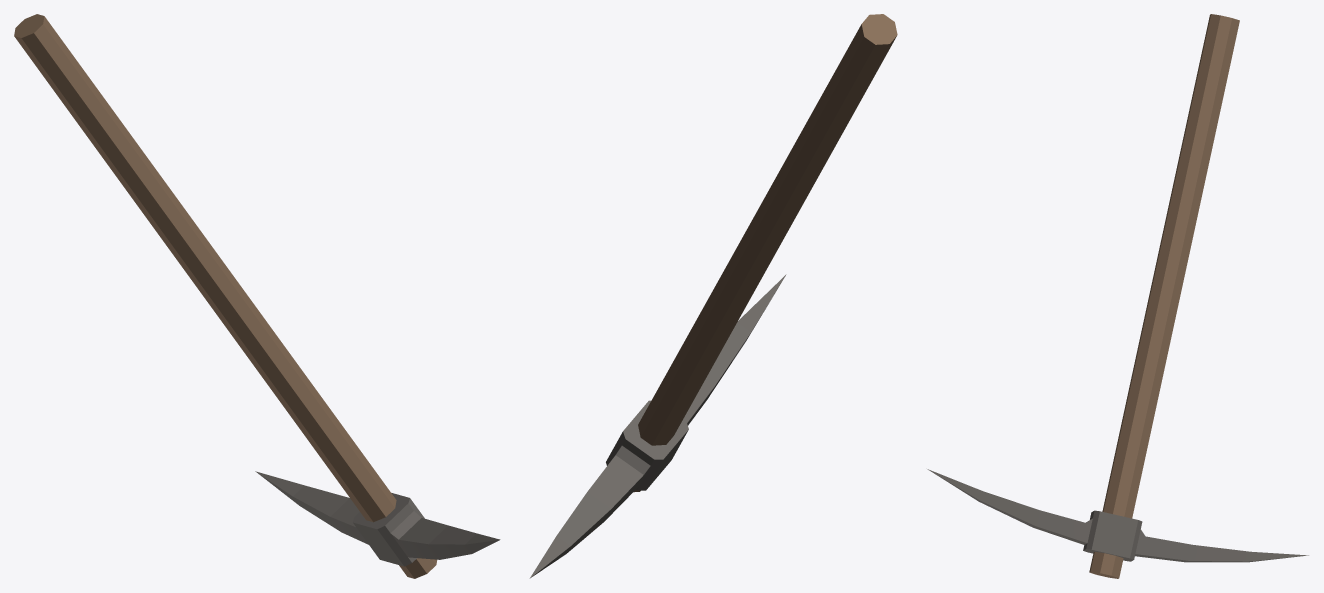
The model's file is Cave_Prop_Pick_Large.obj.
3 views of the same model, side by side, from view 1: azimuth 30°, elevation 25°; view 2: azimuth 150°, elevation 25°; view 3: azimuth 270°, elevation 25° (orthographic). The views are drawn at different scales.
Visible parts, largest first — view 1: object1, object2; view 2: object1, object2; view 3: object1, object2.
Part boxes in pixels (left/top/right/bottom): object1: left=14, top=14, right=437, bottom=578; object2: left=255, top=471, right=500, bottom=566; object1: left=633, top=14, right=897, bottom=492; object2: left=529, top=274, right=786, bottom=578; object1: left=1089, top=14, right=1239, bottom=578; object2: left=927, top=469, right=1308, bottom=562.
Size of the model in its own units: 0.4476 by 0.7266 by 0.5593.
